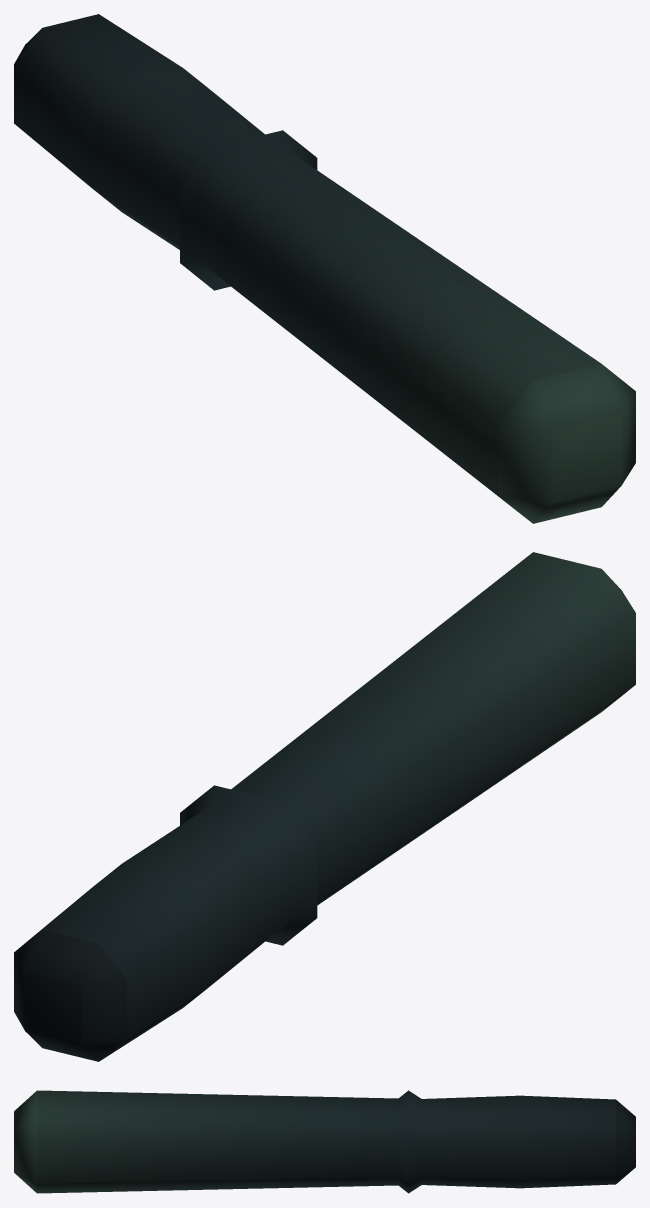
File: bat.fbx
3 views of the same model, one above another, from view 1: azimuth 30°, elevation 25°; view 2: azimuth 150°, elevation 25°; view 3: azimuth 270°, elevation 25° (orthographic). The views are drawn at different scales.
Visible parts, largest first — view 1: bat; view 2: bat; view 3: bat.
Part boxes in pixels (x1=…): bat: x1=14, y1=14, x2=635, y2=523; bat: x1=14, y1=552, x2=635, y2=1061; bat: x1=14, y1=1090, x2=635, y2=1193.
Size of the model in its own units: 10.02 by 10.02 by 67.49.
Materials: 1 (1 with a texture image).
